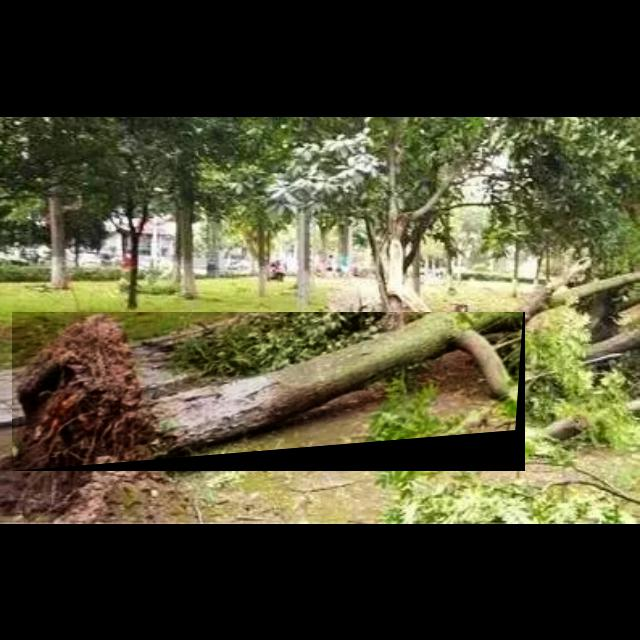Fallen Tree: (12, 312, 526, 472)
